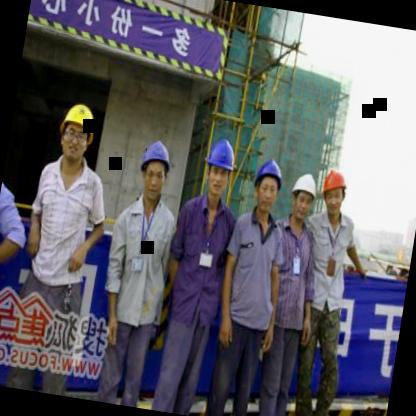helmet: (51, 93, 102, 170), (130, 130, 178, 209), (198, 129, 240, 206), (250, 150, 288, 216), (315, 163, 352, 220), (287, 170, 320, 222)
